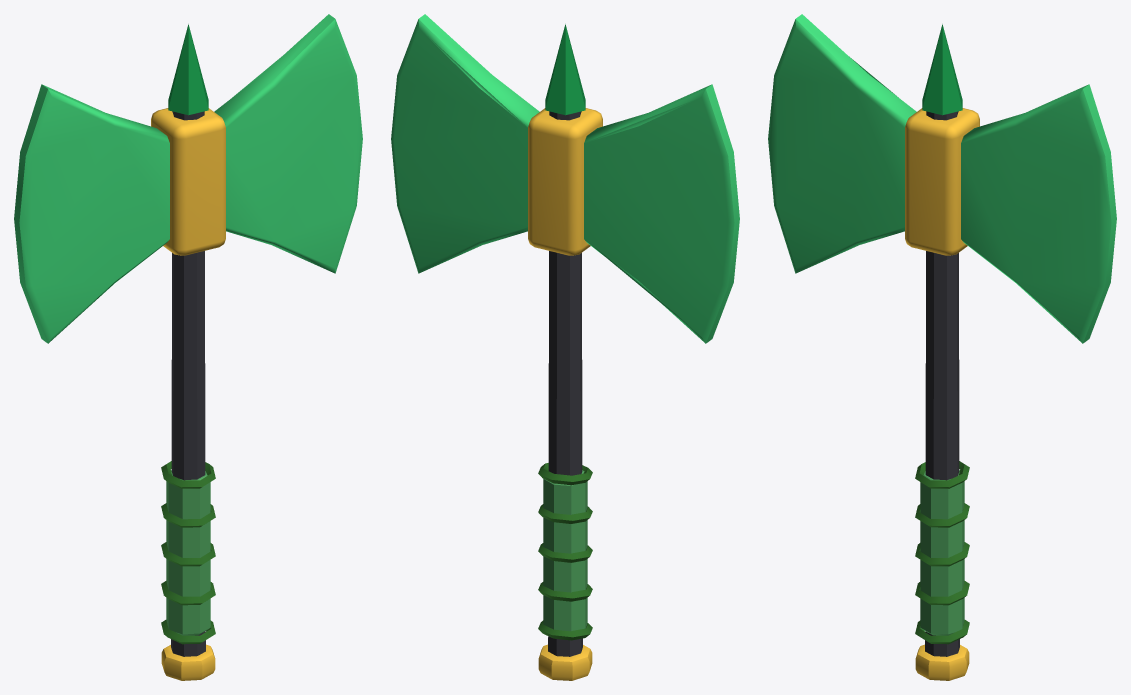
The model's file is EmeraldBattleAxe.fbx.
The picture shows the model from 3 angles, left to right: view 1: azimuth 30°, elevation 25°; view 2: azimuth 150°, elevation 25°; view 3: azimuth 330°, elevation 25°; orthographic projection.
Visible parts, largest first — view 1: EmeraldBattleAxe; view 2: EmeraldBattleAxe; view 3: EmeraldBattleAxe.
Part boxes in pixels (left/top/right/bottom): EmeraldBattleAxe: left=14, top=14, right=362, bottom=680; EmeraldBattleAxe: left=391, top=14, right=739, bottom=680; EmeraldBattleAxe: left=768, top=14, right=1116, bottom=680.
Bounding box in the file's own units: 2.2 × 3.97 × 0.34.
Materials: 1 (1 with a texture image).
